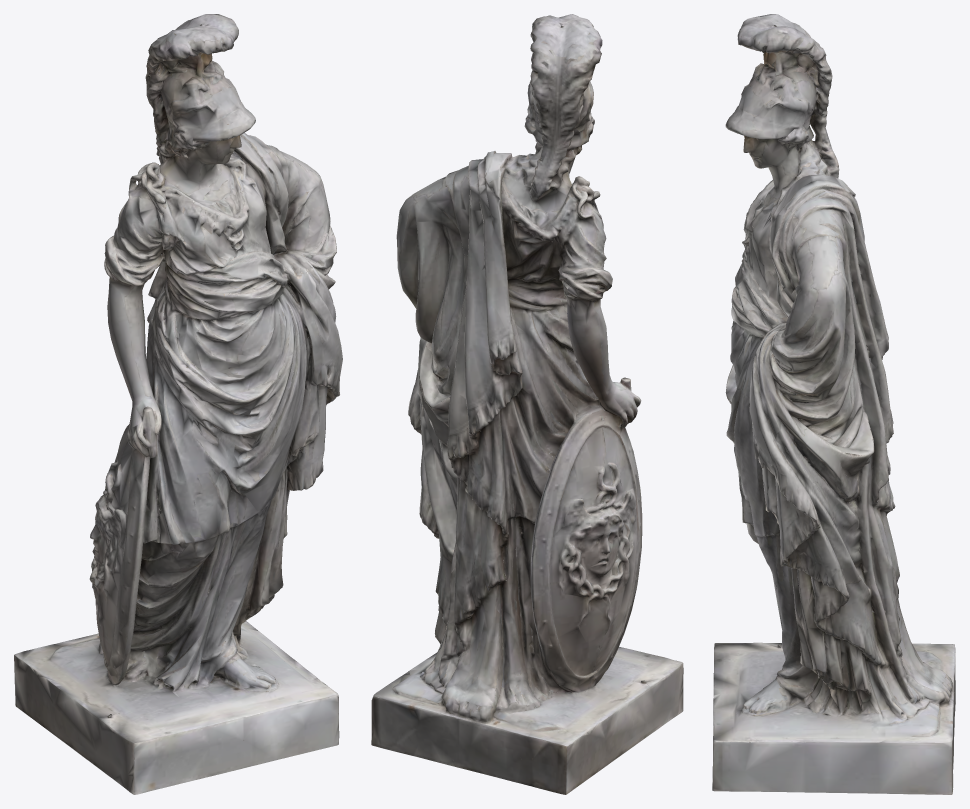
The model's file is aspasia.glb.
The picture shows the model from 3 angles, left to right: view 1: azimuth 30°, elevation 25°; view 2: azimuth 150°, elevation 25°; view 3: azimuth 270°, elevation 25°; orthographic projection. The views are drawn at different scales.
Visible parts, largest first — view 1: Object_2; view 2: Object_2; view 3: Object_2.
Part boxes in pixels (left/top/right/bottom): Object_2: left=14, top=14, right=342, bottom=794; Object_2: left=371, top=14, right=683, bottom=794; Object_2: left=712, top=14, right=955, bottom=794.
Size of the model in its own units: 0.7659 by 2.14 by 0.6539.
Materials: 2 (1 with a texture image).
